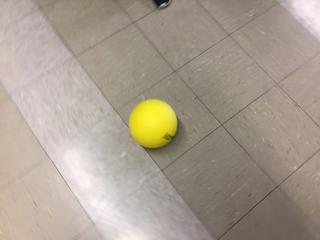power_cell: (128, 99, 179, 150)
